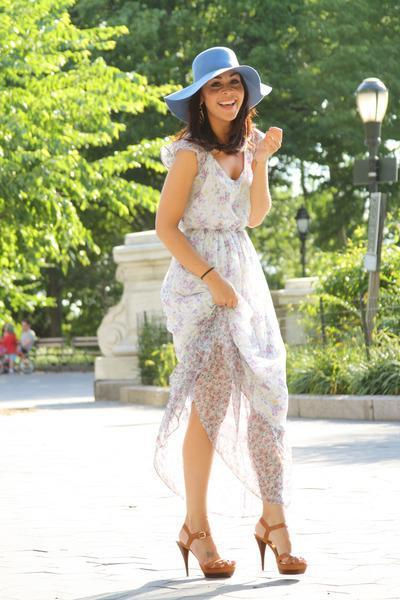dress: (159, 114, 294, 511)
hat: (144, 47, 270, 139)
pants: (180, 525, 209, 563)
shoe: (204, 523, 306, 585)
